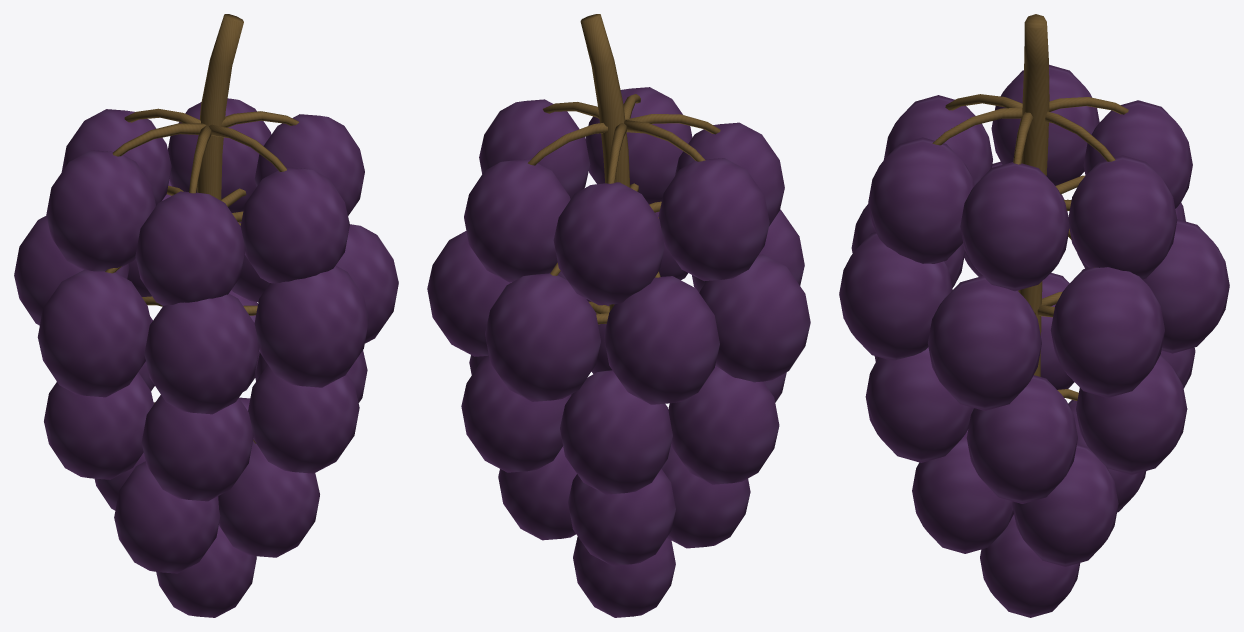
File: grapes.glb
3 views of the same model, side by side, from view 1: azimuth 30°, elevation 25°; view 2: azimuth 150°, elevation 25°; view 3: azimuth 270°, elevation 25° (orthographic). The views are drawn at different scales.
Parts seen in each view (by area): view 1: Grape berry 13, Grape berry 14, Grape berry 15, Grape berry 19, Grape berry 21, Grape berry 20, Grape berry 08, Grape berry 09, Grape berry 07, Grape berry 03, Grape berry 04, Grape berry 22 (+14 smaller); view 2: Grape berry 11, Grape berry 12, Grape berry 19, Grape berry 18, Grape berry 06, Grape berry 13, Grape berry 23, Grape berry 07, Grape berry 05, Grape berry 02, Grape berry 17, Grape berry 22 (+12 smaller); view 3: Grape berry 17, Grape berry 16, Grape berry 22, Grape berry 23, Grape berry 21, Grape berry 10, Grape berry 15, Grape berry 05, Grape berry 09, Grape berry 01, Grape berry 04, Grape berry 11 (+13 smaller).
Boxes of the visible parts, x1,y1,x2,y2 form: Grape berry 13: [37, 269, 151, 397]; Grape berry 14: [144, 293, 259, 414]; Grape berry 15: [254, 265, 368, 387]; Grape berry 19: [46, 150, 155, 271]; Grape berry 21: [240, 167, 349, 283]; Grape berry 20: [135, 191, 245, 305]; Grape berry 08: [141, 395, 253, 501]; Grape berry 09: [248, 365, 359, 473]; Grape berry 07: [44, 372, 153, 479]; Grape berry 03: [114, 461, 220, 573]; Grape berry 04: [218, 440, 319, 557]; Grape berry 22: [254, 114, 364, 215]; Grape berry 11: [485, 273, 600, 401]; Grape berry 12: [604, 276, 719, 404]; Grape berry 19: [658, 158, 769, 281]; Grape berry 18: [553, 182, 664, 305]; Grape berry 06: [560, 370, 672, 494]; Grape berry 13: [699, 254, 810, 382]; Grape berry 23: [464, 159, 570, 282]; Grape berry 07: [668, 366, 779, 484]; Grape berry 05: [461, 356, 571, 472]; Grape berry 02: [568, 468, 675, 565]; Grape berry 17: [427, 231, 511, 356]; Grape berry 22: [479, 99, 590, 199]; Grape berry 17: [1050, 267, 1164, 397]; Grape berry 16: [927, 276, 1041, 410]; Grape berry 22: [960, 162, 1069, 291]; Grape berry 23: [1068, 155, 1177, 279]; Grape berry 21: [868, 137, 974, 263]; Grape berry 10: [966, 375, 1077, 503]; Grape berry 15: [839, 232, 952, 360]; Grape berry 05: [1076, 355, 1187, 474]; Grape berry 09: [865, 347, 974, 462]; Grape berry 01: [1012, 444, 1118, 566]; Grape berry 04: [912, 429, 1013, 553]; Grape berry 11: [1142, 219, 1229, 353].
Bounding box in the file's own units: 0.0754 × 0.1274 × 0.0739.
Materials: 2 (2 with a texture image).
